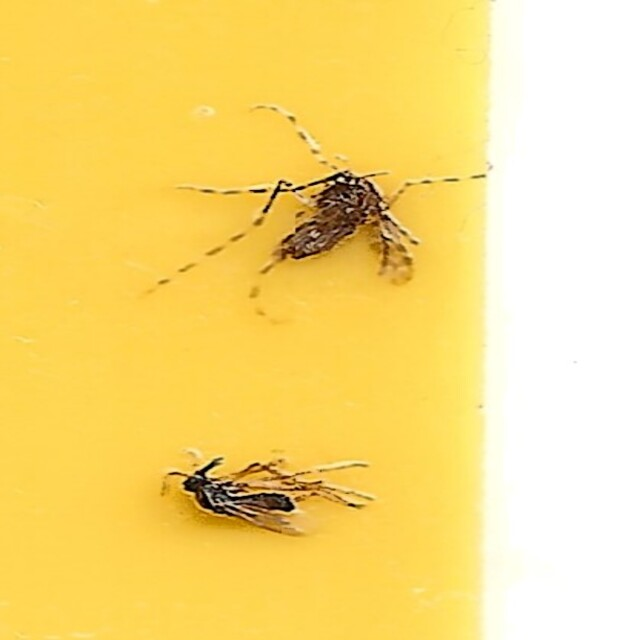Brachycera: (171, 450, 382, 536)
Nematocera: (154, 104, 486, 329)
